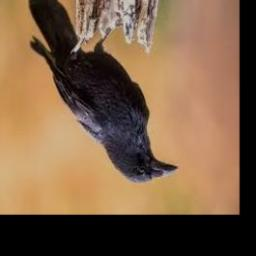Crow: (28, 0, 179, 183)
